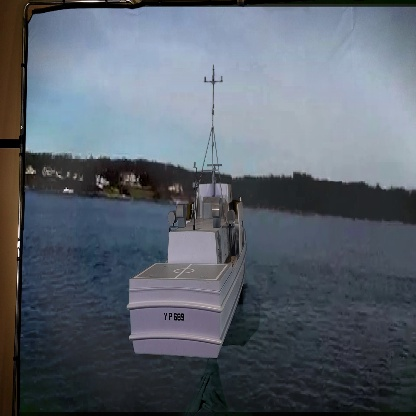YP689: (127, 61, 248, 361)
